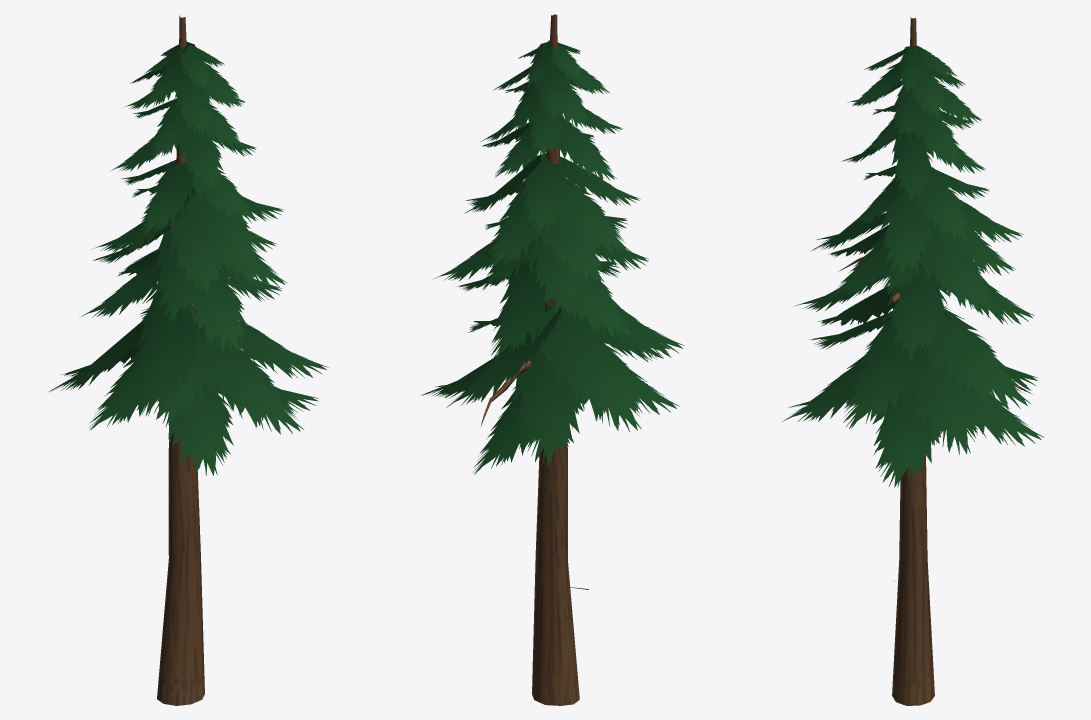
File: SM_Pine_Tree_2.glb
3 renders of one model, left to right at view 1: azimuth 30°, elevation 25°; view 2: azimuth 150°, elevation 25°; view 3: azimuth 270°, elevation 25°, orthographic.
Parts seen in each view (by area): view 1: SM_Pine_Tree_2; view 2: SM_Pine_Tree_2; view 3: SM_Pine_Tree_2.
Part boxes in pixels (<box>): SM_Pine_Tree_2: <box>49,15,328,705</box>; SM_Pine_Tree_2: <box>422,14,684,705</box>; SM_Pine_Tree_2: <box>782,17,1044,705</box>.
Size of the model in its own units: 3.15 by 6.81 by 3.02.
2 materials, 2 textured.
